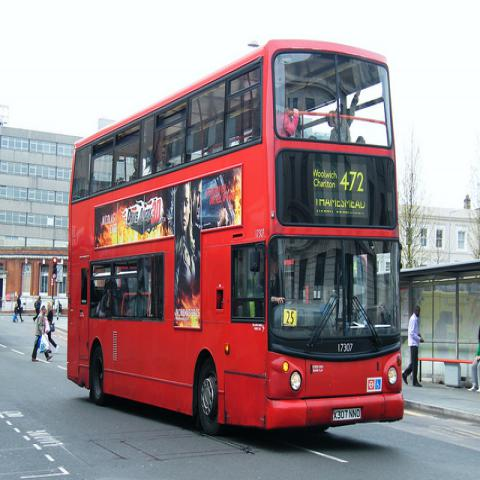bus: (64, 41, 405, 434)
